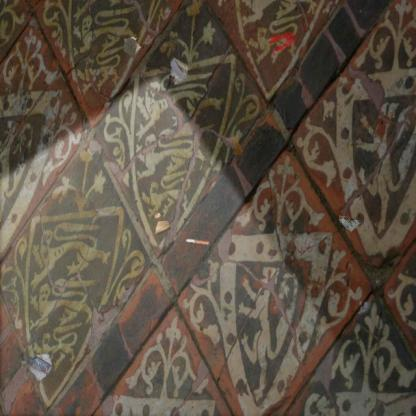dirty: (28, 352, 53, 381), (168, 57, 191, 86), (153, 211, 173, 237), (337, 214, 362, 234), (122, 35, 143, 58), (185, 236, 210, 246)
liquid: (268, 30, 297, 57), (225, 134, 243, 154)
